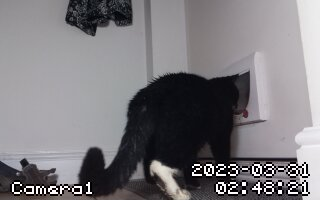bad: (81, 71, 243, 199)
